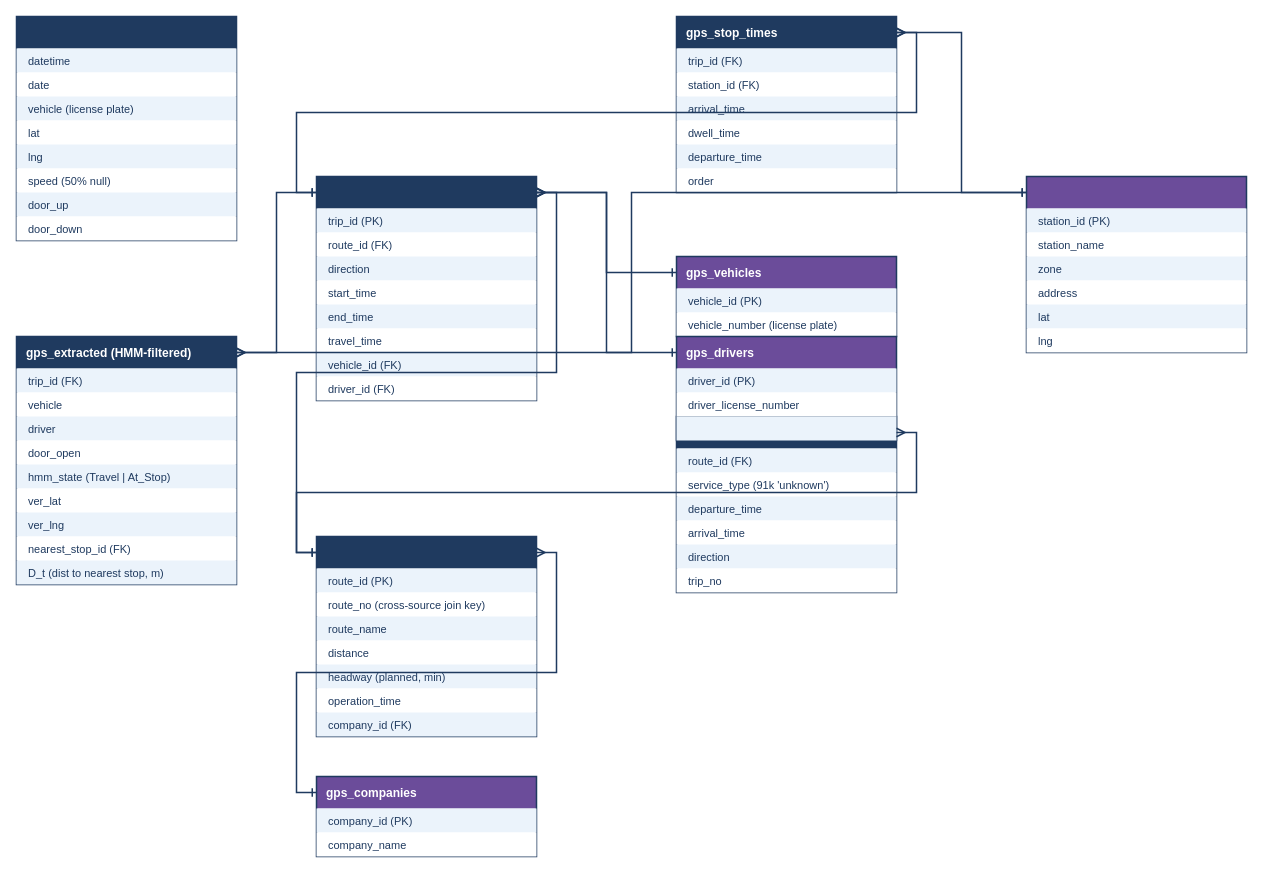
The diagram is 1263 pixels wide and 873 high, and some of its shapes have lost their labels. Each missing label, with the centre of its shape:
driver_name: pixel 786 428
gps_raw: pixel 126 32
gps_routes: pixel 426 552
gps_stations: pixel 1136 192
gps_trips: pixel 426 192
